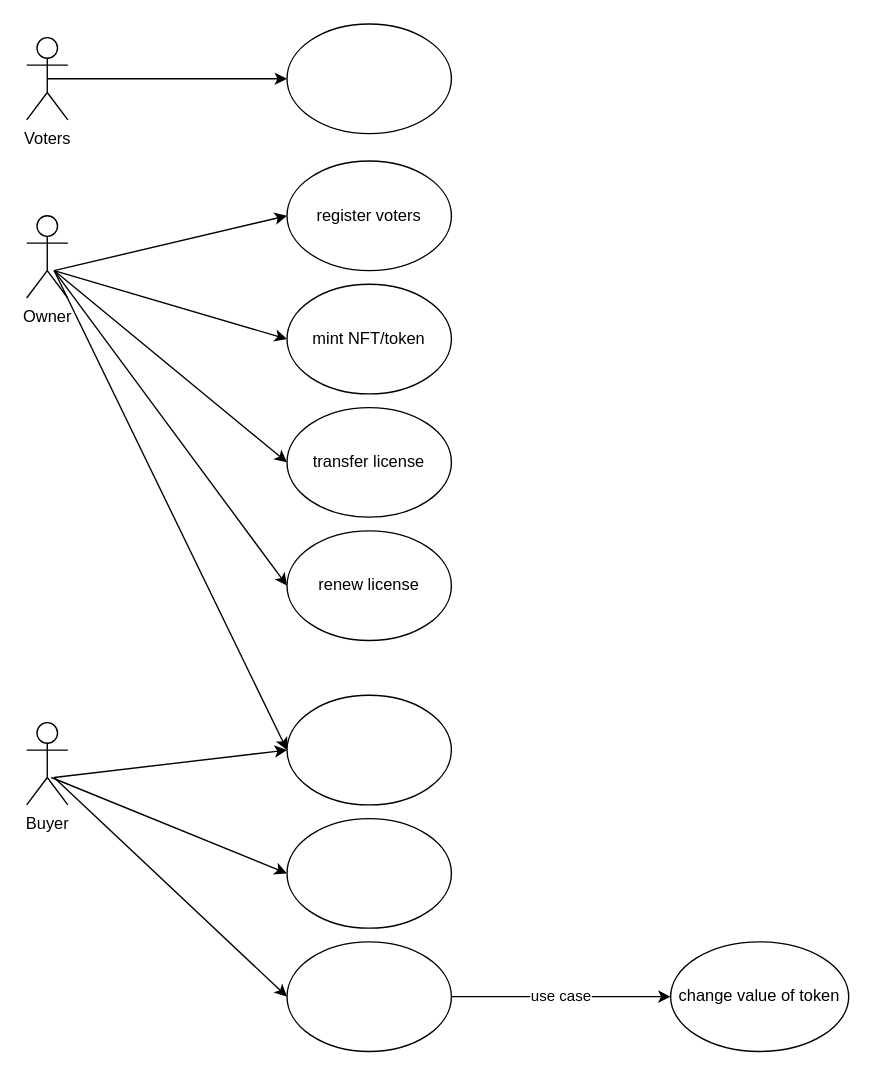
Image size: 873x1075. Some labels were removed from this diagram. The shapes that lost their labels are listed below. From the top down, each one's centre as x and y in pixels, then its label:
pixel 368 78: cast votes
pixel 368 749: display approvers
pixel 368 872: buy water
pixel 368 996: rate water
